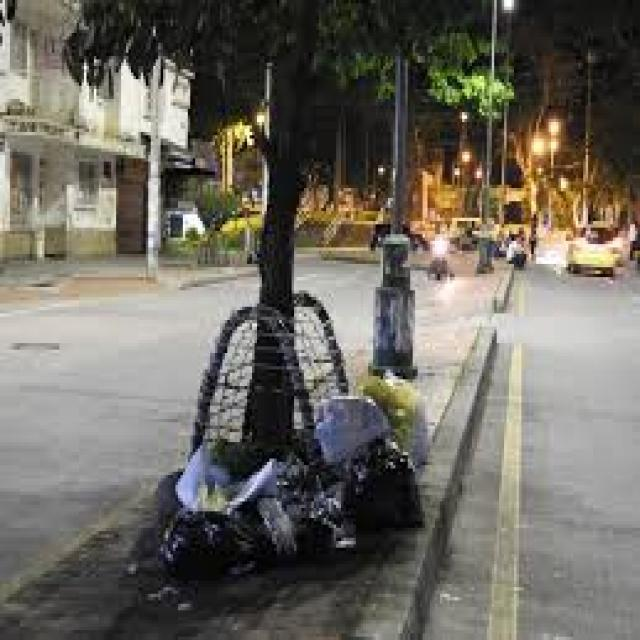garbage: (118, 310, 434, 570)
